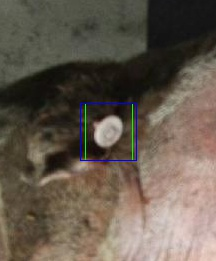text: (85, 103, 132, 160)
